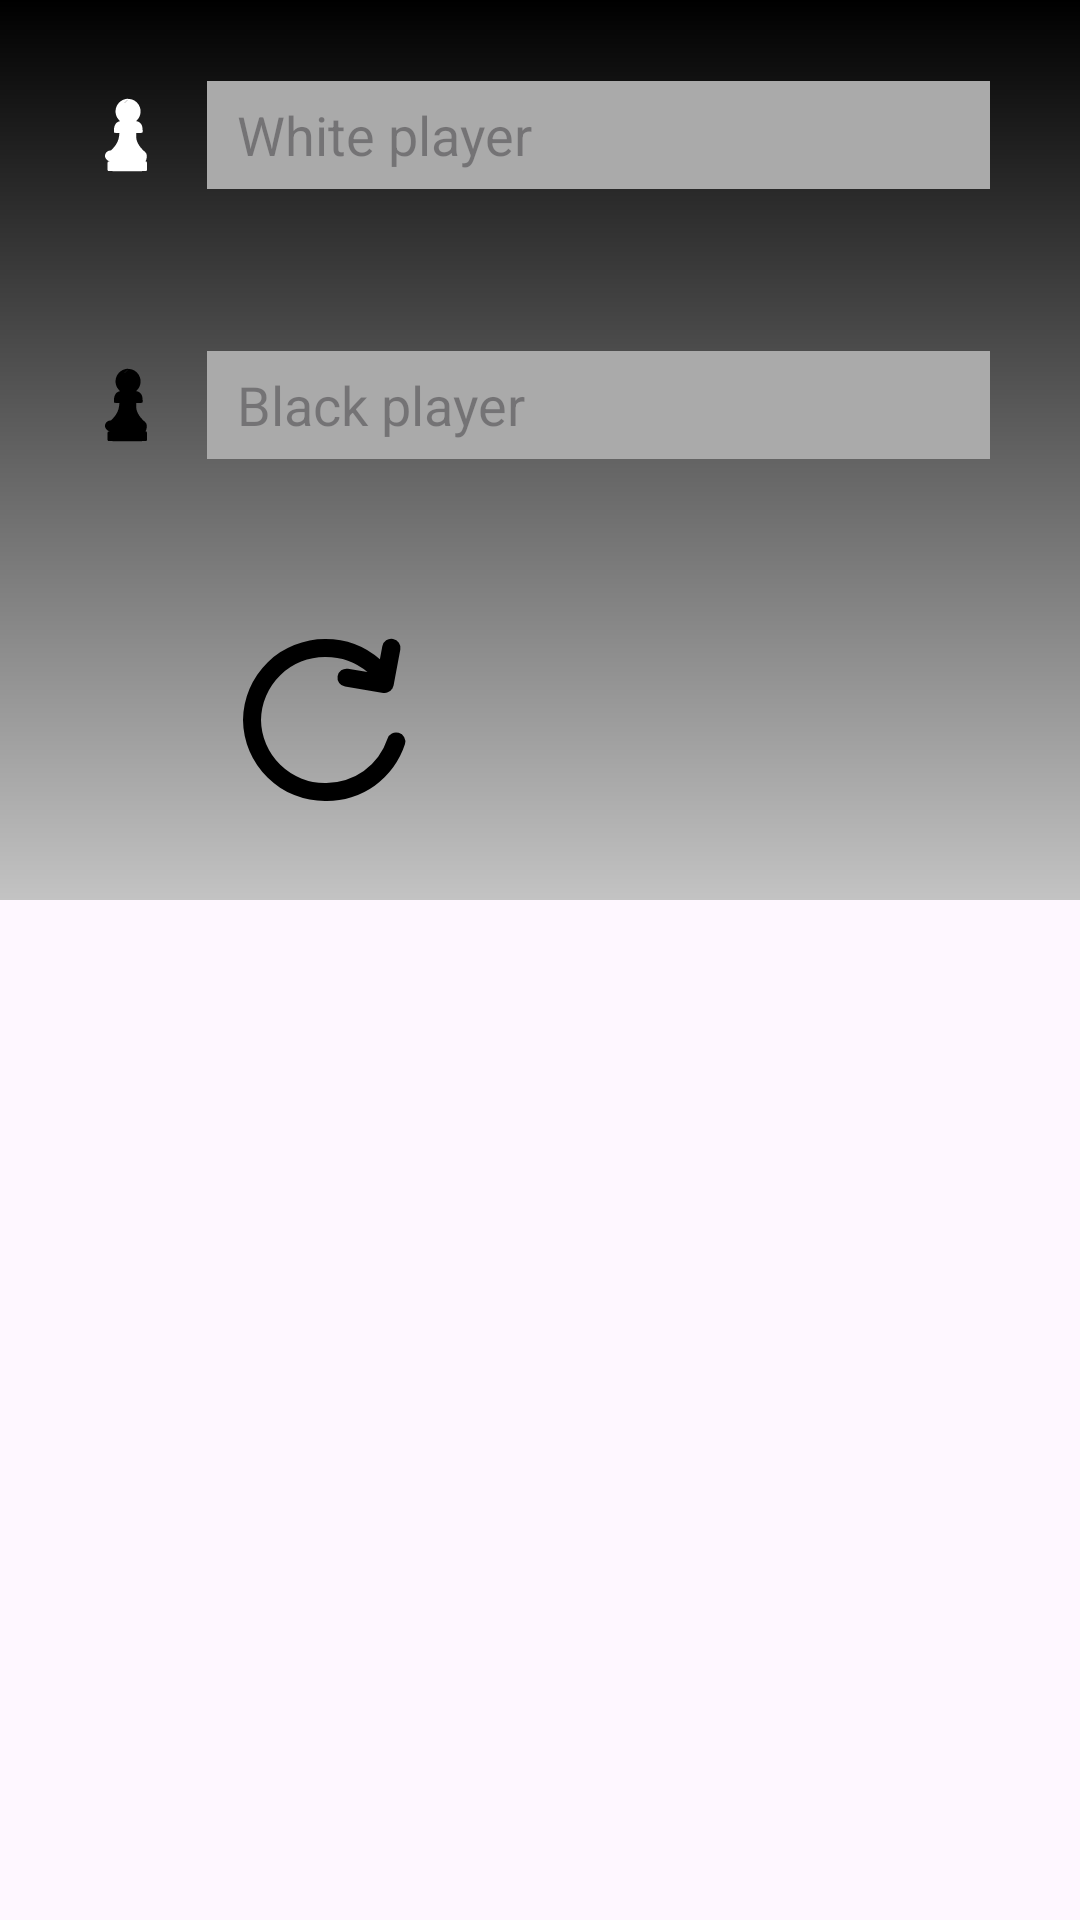

Icon click points for this 1080*1920 phone screenshot, format point (x, y):
update: point (324, 720)
